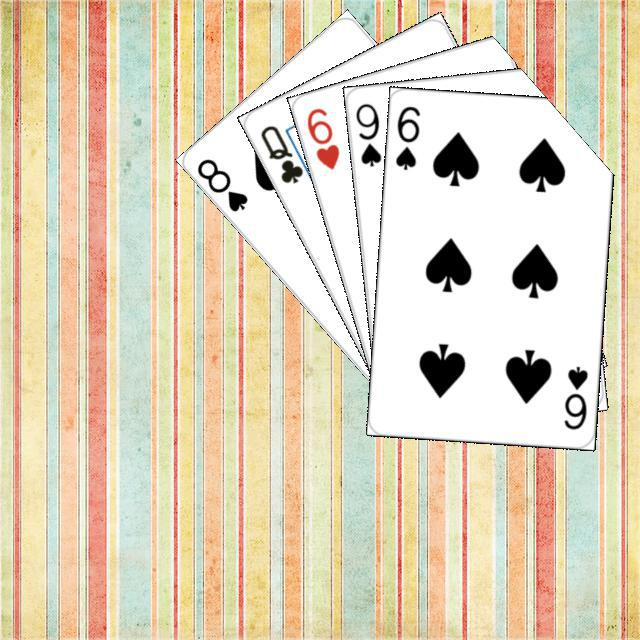6h: (301, 103, 341, 172)
6s: (559, 361, 590, 431), (391, 101, 421, 171)
8s: (191, 153, 250, 214)
9s: (350, 98, 383, 168)
Qc: (255, 120, 316, 186)
